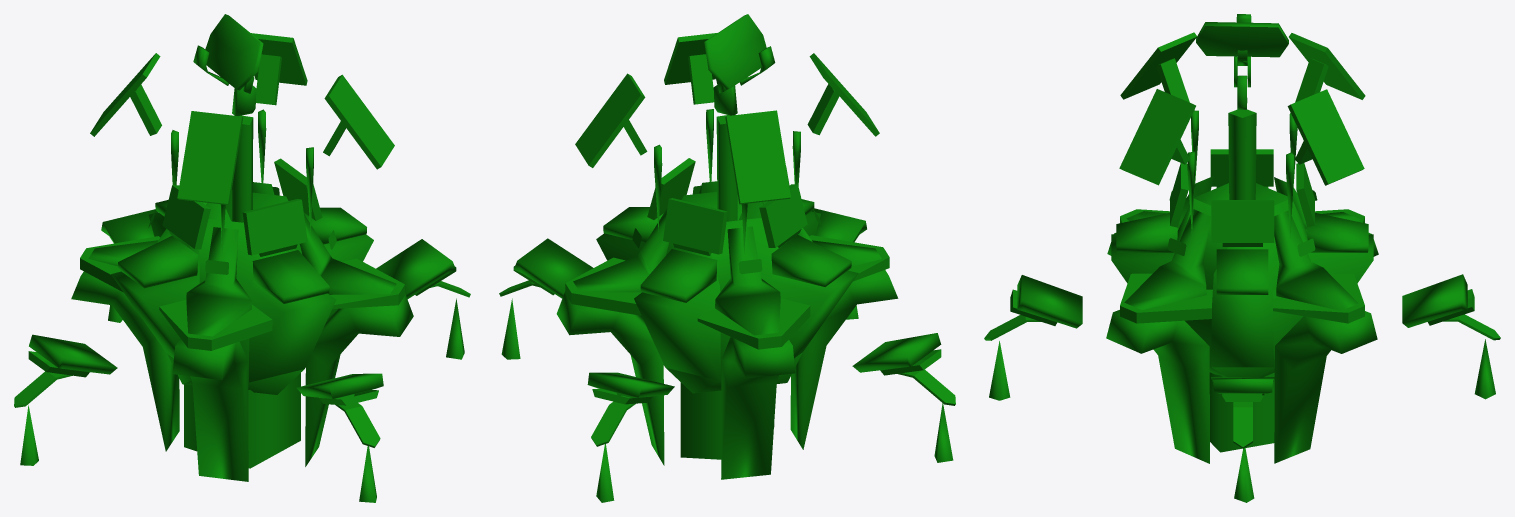
Rendered from terminal_com_station.obj.
The picture shows the model from 3 angles, left to right: view 1: azimuth 30°, elevation 25°; view 2: azimuth 150°, elevation 25°; view 3: azimuth 270°, elevation 25°; orthographic projection. The views are drawn at different scales.
Parts seen in each view (by area): view 1: terminal_com_station_nobase_LOD0_lod3; view 2: terminal_com_station_nobase_LOD0_lod3; view 3: terminal_com_station_nobase_LOD0_lod3.
Boxes of the visible parts, bbox=[...] form: terminal_com_station_nobase_LOD0_lod3: bbox=[14, 14, 470, 502]; terminal_com_station_nobase_LOD0_lod3: bbox=[499, 14, 955, 502]; terminal_com_station_nobase_LOD0_lod3: bbox=[984, 14, 1500, 502].
Size of the model in its own units: 108 by 94.95 by 108.
